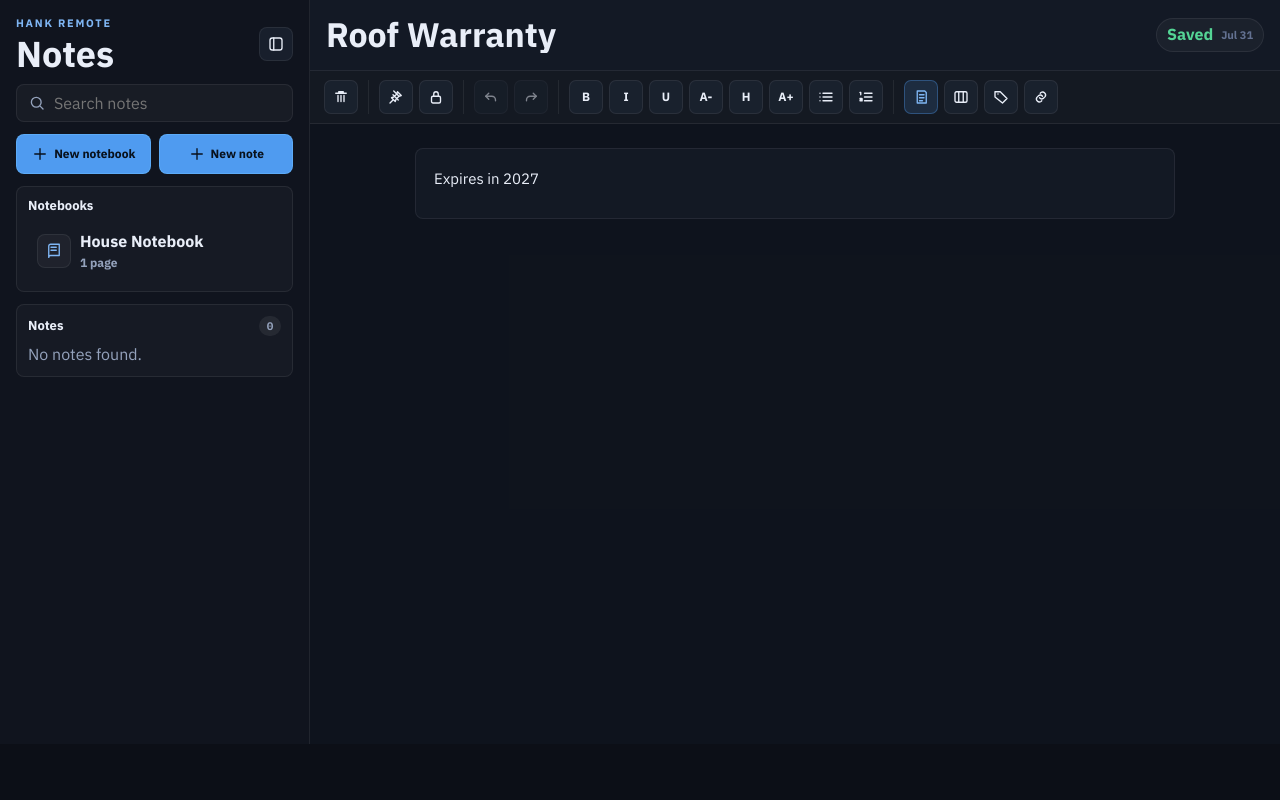
Scenario: ProfileNotesPage › keeps notebook ordering unchanged when pinning fails
Click the button with aria-label "Open notebook House Notebook" at (154, 251), box 28,222 -> 281,280
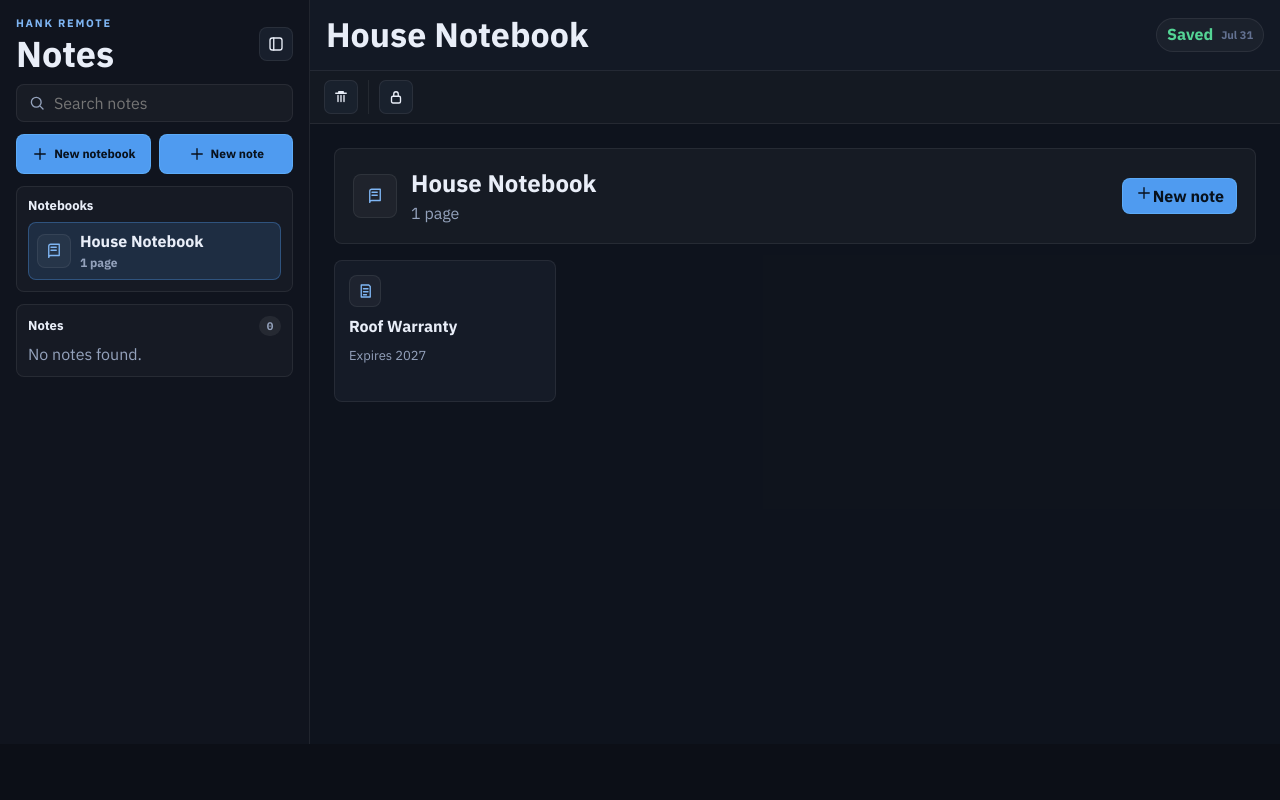
Click the button with aria-label "Open Roof Warranty" at (445, 331), box 334,260 -> 556,402
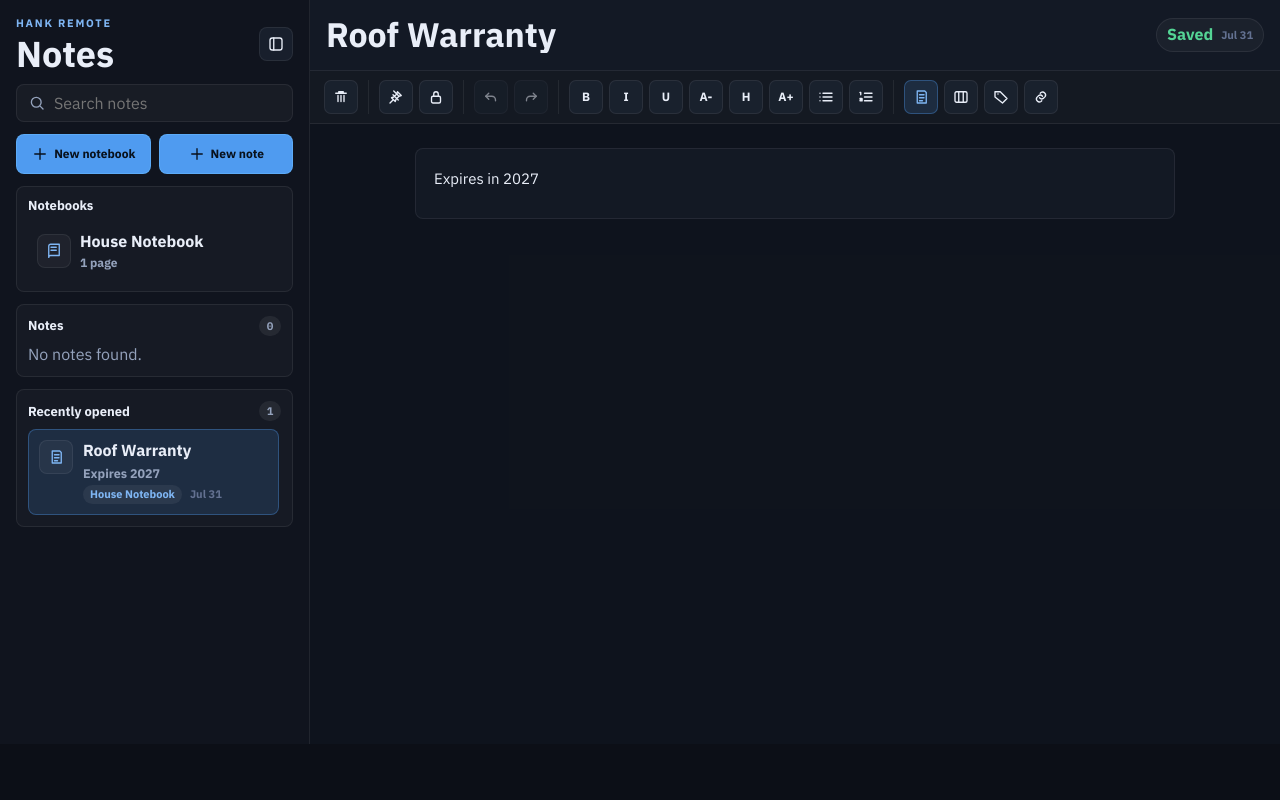
Click the button named "Pin note" at (396, 97), box 379,80 -> 413,114
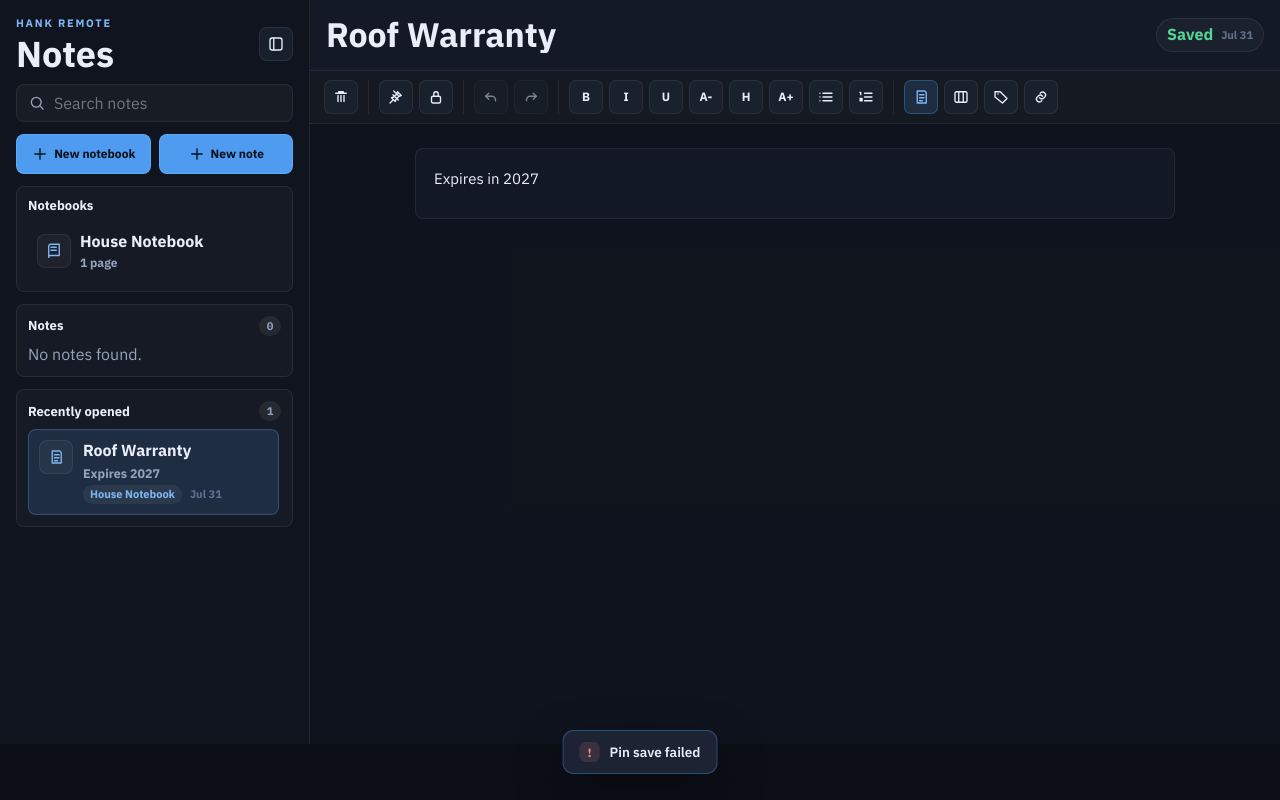
Now the button named "Pin note" is shown, box 379,80 -> 413,114
Now the text "Pin save failed" is shown, box 610,743 -> 700,761
